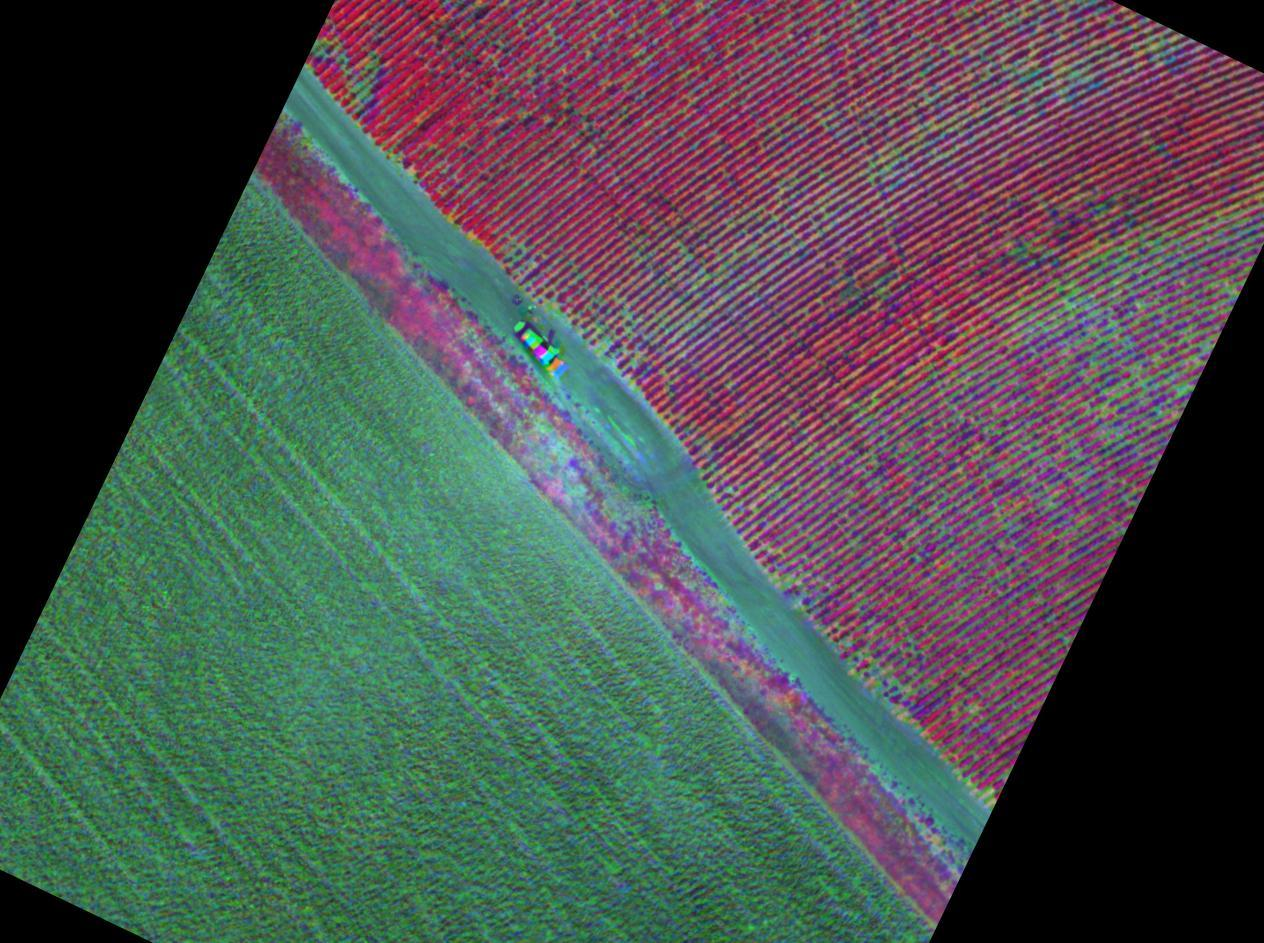dc: (598, 345, 602, 349), (633, 361, 637, 365), (727, 488, 730, 492), (874, 400, 877, 403), (797, 524, 800, 527), (908, 532, 911, 535)
